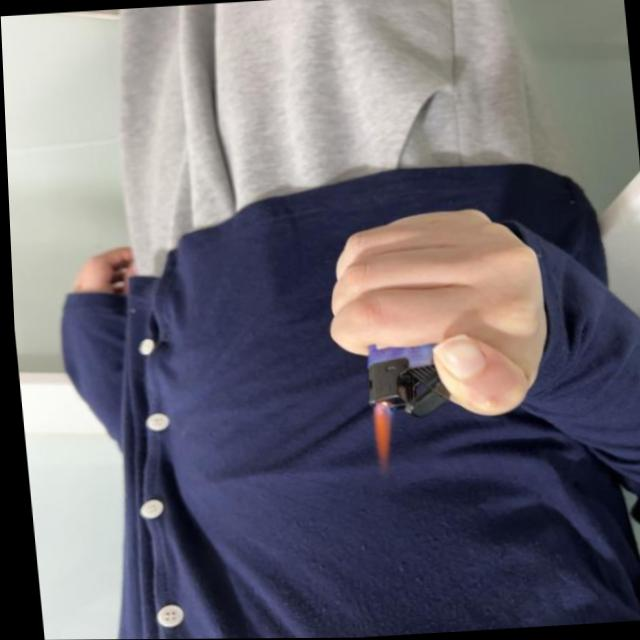Fire: (363, 404, 400, 472)
